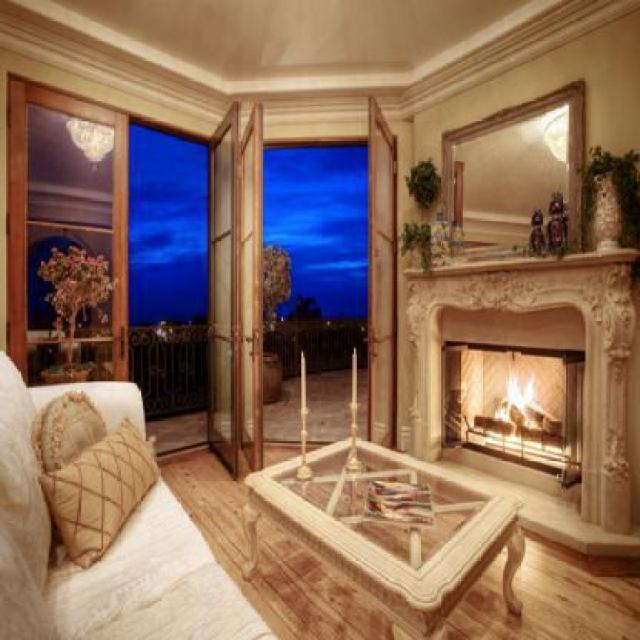Fire: (484, 370, 550, 444)
